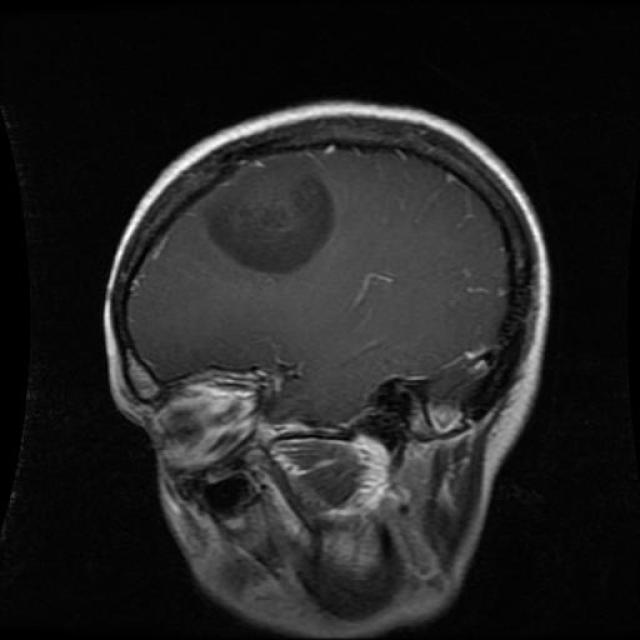brain_tumor: (205, 155, 334, 272)
